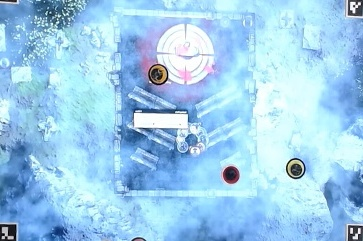lime_green_violet: (285, 157, 308, 180)
red: (220, 164, 243, 187)
yellow_night_blue: (148, 63, 171, 86)
